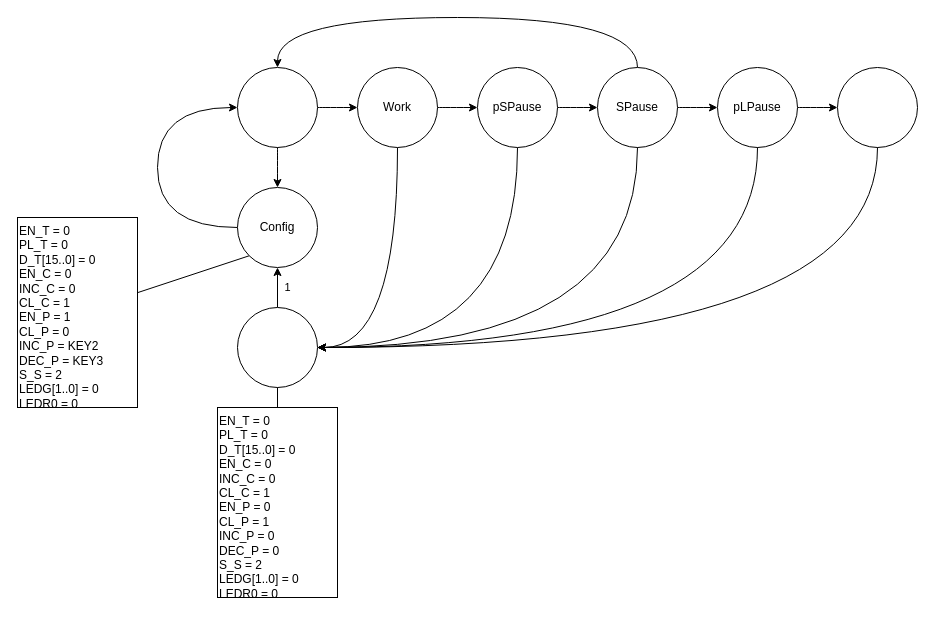
This 935x619 diagram has some shape labels left out. Here are the shapes that lost their labels. From the top down, the box of each, then its label:
(236, 66, 318, 148): pWork
(836, 66, 918, 148): LPause
(236, 306, 318, 388): pConfig
